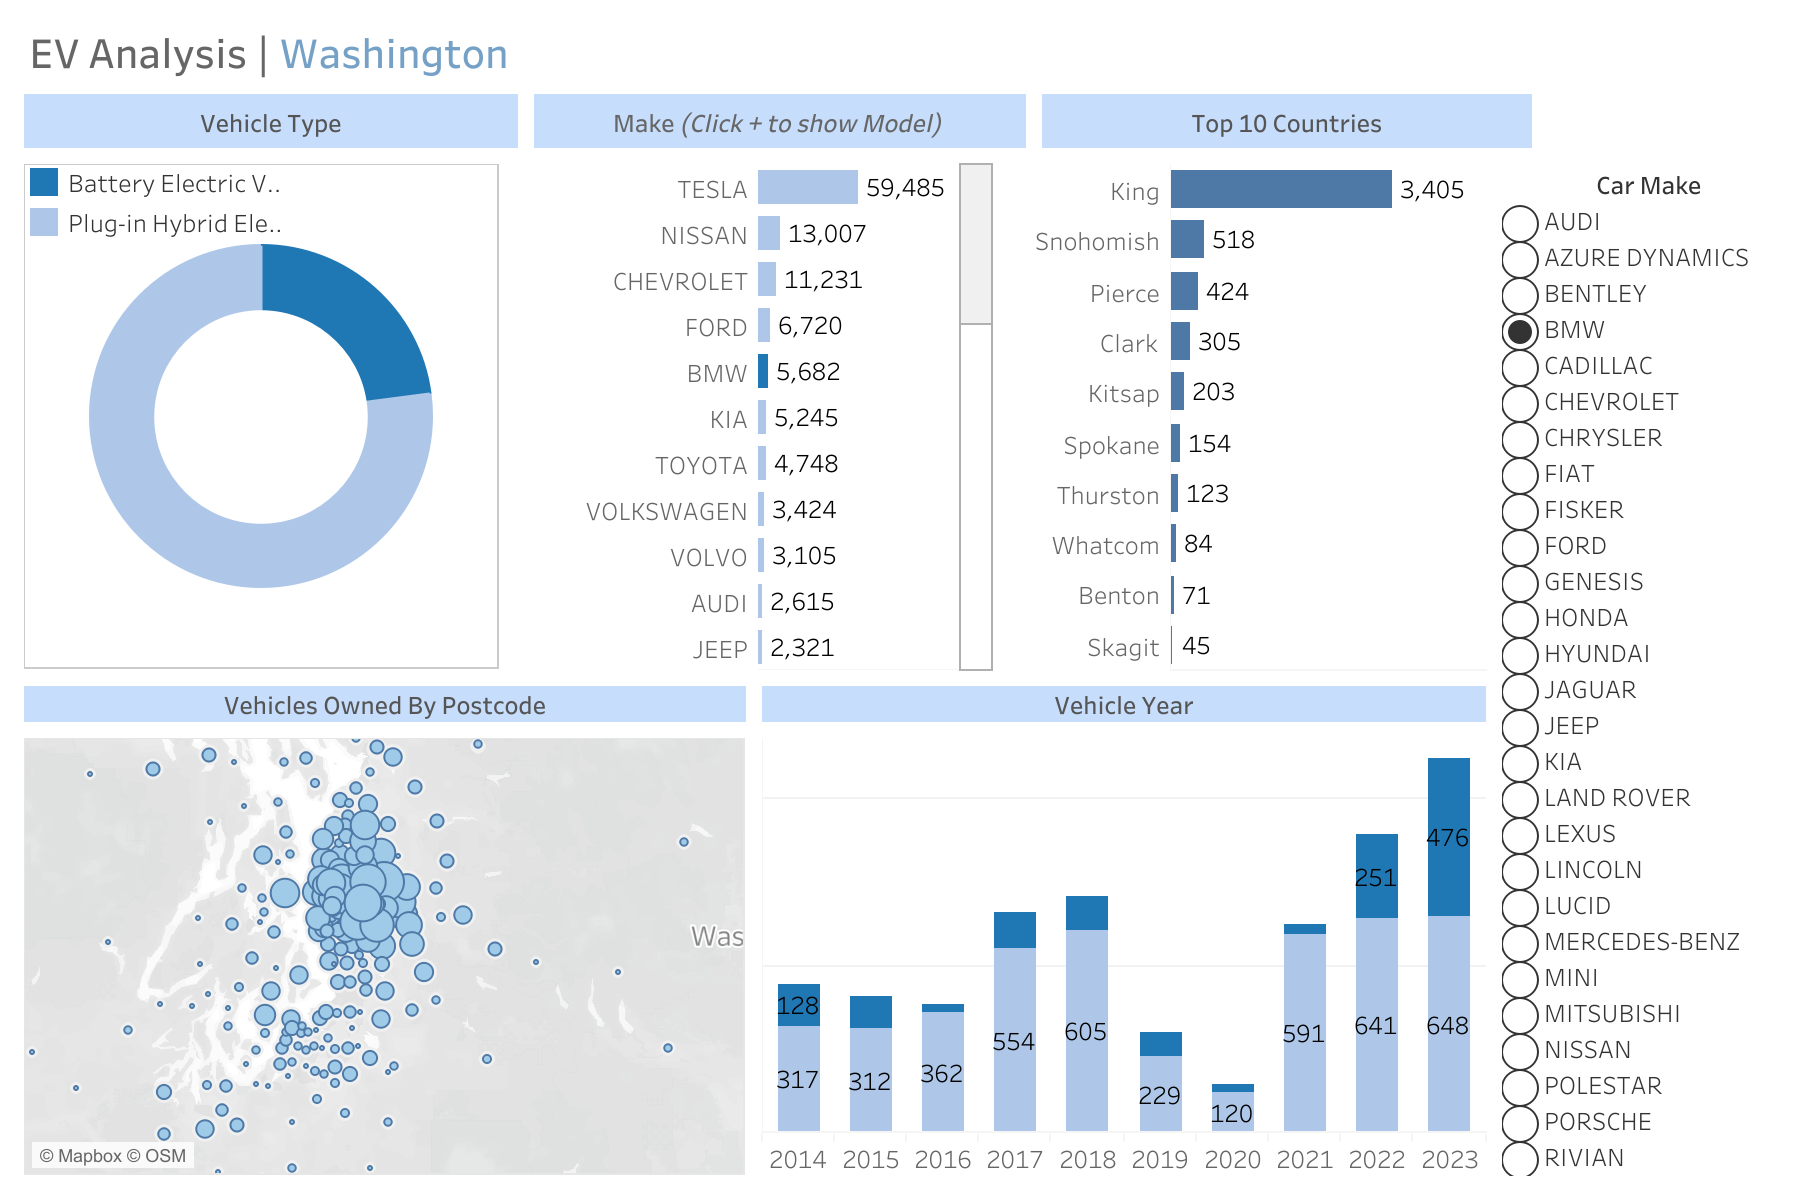

Layout of this report page (visuals, bound fields, positions):
{"tool":"tableau","page":{"name":"Dashboard 1","canvas":[1000,1000],"units":"permille","ordinal":0},"visuals":[{"type":"text","box":[7.5,14.5,985,57.9]},{"type":"text","box":[7.5,72.3,299.4,57.9]},{"type":"text","box":[306.8,72.3,271.3,57.9]},{"type":"text","box":[578.1,72.3,269.4,57.9]},{"type":"worksheet","title":"Vehicle Type","mark":"Pie","rows":["Calculation_318137126921261056","Calculation_318137126921261056"],"box":[7.5,130.2,299.3,433.9]},{"type":"worksheet","title":"Make and Model","mark":"Automatic","rows":["Make"],"cols":["DOL Vehicle ID"],"box":[306.8,130.2,281.6,433.9]},{"type":"worksheet","title":"Top 10 Countries","mark":"Automatic","rows":["County"],"cols":["DOL Vehicle ID"],"box":[588.4,130.2,259.1,433.9]},{"type":"parameter","param":"[Parameters].[Parameter 1]","box":[847.5,130.2,145,855.3]},{"type":"legend","title":"Vehicle Type","param":"[federated.1bf58in0vcup0t1bv9stv1vdfckr].[none:Electric Vehicle Type:nk]","box":[13.1,135.6,144.1,68.7]},{"type":"text","box":[7.5,564.1,419.9,44.4]},{"type":"text","box":[427.4,564.1,420.1,44.4]},{"type":"worksheet","title":"Map","mark":"Automatic","box":[7.5,608.5,419.9,377]},{"type":"worksheet","title":"Year and Type","mark":"Bar","rows":["DOL Vehicle ID"],"cols":["Model Year"],"box":[427.4,608.5,420.1,377]}]}

Visuals, with their boxes on the dashboard's canvas, which has no fixed pixel size, in thousandths of its width and height (x1, y1, x2, y2). These are canvas units, not pixel positions in the 1818x1198 screenshot, which may show the page scaled, cropped or inside an application window:
text: rect(8, 14, 992, 72)
text: rect(8, 72, 307, 130)
text: rect(307, 72, 578, 130)
text: rect(578, 72, 848, 130)
"Vehicle Type" worksheet (Pie marks): rect(8, 130, 307, 564)
"Make and Model" worksheet: rect(307, 130, 588, 564)
"Top 10 Countries" worksheet: rect(588, 130, 848, 564)
parameter: rect(848, 130, 992, 986)
"Vehicle Type" legend: rect(13, 136, 157, 204)
text: rect(8, 564, 427, 608)
text: rect(427, 564, 848, 608)
"Map" worksheet: rect(8, 608, 427, 986)
"Year and Type" worksheet (Bar marks): rect(427, 608, 848, 986)
